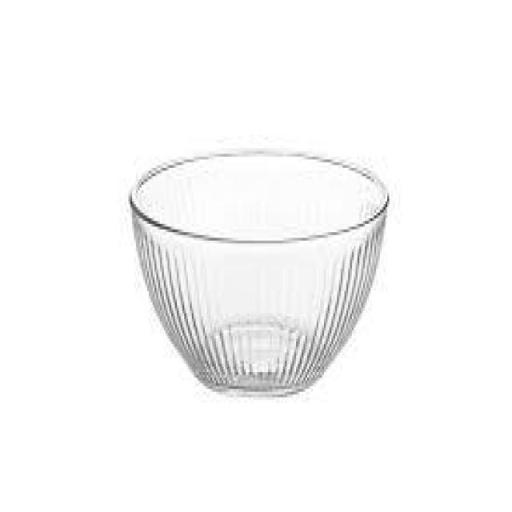glass: (115, 136, 398, 412)
